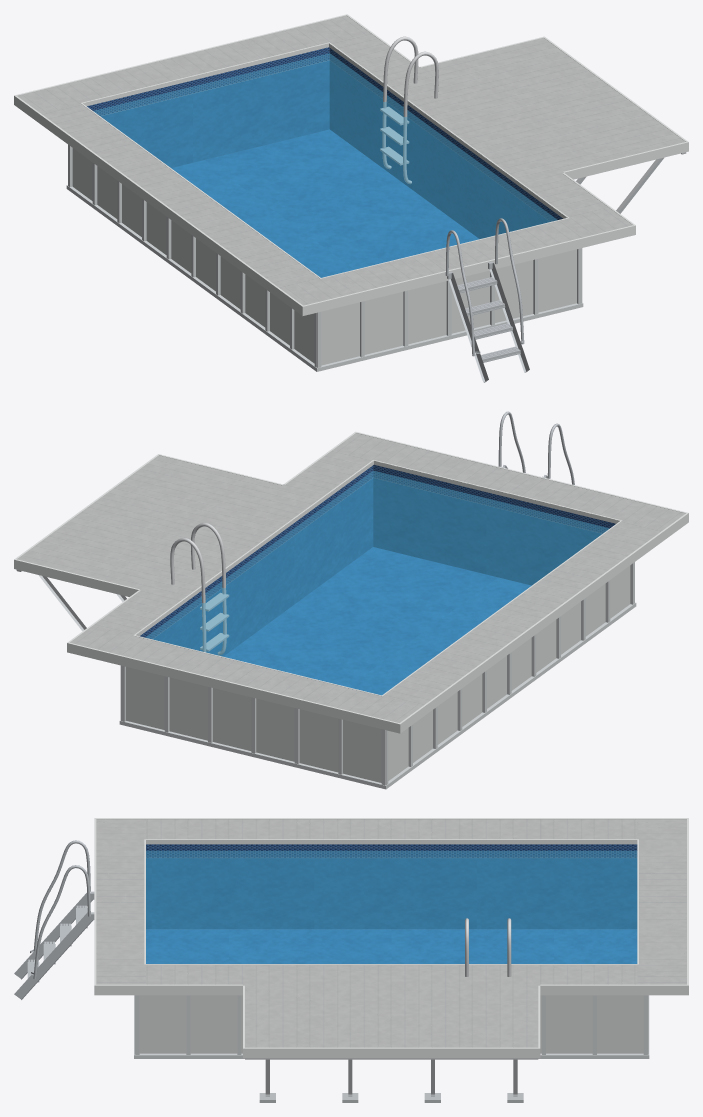
The model's file is kayak-pool-12x20-white-t-ag-nofence.e5f87f8797.glb.
3 renders of one model, top to bottom at view 1: azimuth 30°, elevation 25°; view 2: azimuth 150°, elevation 25°; view 3: azimuth 270°, elevation 25°, orthographic. The views are drawn at different scales.
Parts seen in each view (by area): view 1: water, deck, liner_wall, liner_floor, wall, fascia, upright, ladder, steel; view 2: water, deck, liner_wall, liner_floor, wall, fascia, upright, steel, ladder; view 3: water, deck, liner_wall, liner_floor, fascia, wall, ladder, upright, stud, steel.
Boxes of the visible parts, x1=… form: water: x1=93, y1=53, x2=557, y2=277; deck: x1=17, y1=15, x2=685, y2=305; liner_wall: x1=87, y1=47, x2=562, y2=238; liner_floor: x1=171, y1=129, x2=478, y2=277; wall: x1=72, y1=148, x2=576, y2=365; fascia: x1=14, y1=14, x2=688, y2=315; upright: x1=66, y1=144, x2=583, y2=371; ladder: x1=445, y1=218, x2=529, y2=382; steel: x1=380, y1=36, x2=438, y2=184; water: x1=145, y1=470, x2=609, y2=694; deck: x1=17, y1=433, x2=685, y2=722; liner_wall: x1=140, y1=464, x2=615, y2=656; liner_floor: x1=223, y1=547, x2=531, y2=695; wall: x1=126, y1=565, x2=630, y2=782; fascia: x1=14, y1=431, x2=688, y2=733; upright: x1=119, y1=562, x2=636, y2=789; steel: x1=170, y1=523, x2=229, y2=655; ladder: x1=498, y1=411, x2=574, y2=484; water: x1=146, y1=850, x2=637, y2=963; deck: x1=96, y1=819, x2=686, y2=1047; liner_wall: x1=146, y1=844, x2=637, y2=929; liner_floor: x1=146, y1=929, x2=637, y2=963; fascia: x1=94, y1=818, x2=688, y2=1058; wall: x1=139, y1=995, x2=643, y2=1053; ladder: x1=14, y1=840, x2=94, y2=999; upright: x1=134, y1=995, x2=649, y2=1058; stud: x1=245, y1=1058, x2=538, y2=1102; steel: x1=465, y1=918, x2=511, y2=976.
Size of the model in its own units: 6.71 by 1.9 by 8.3.
Materials: 10 (3 with a texture image).
